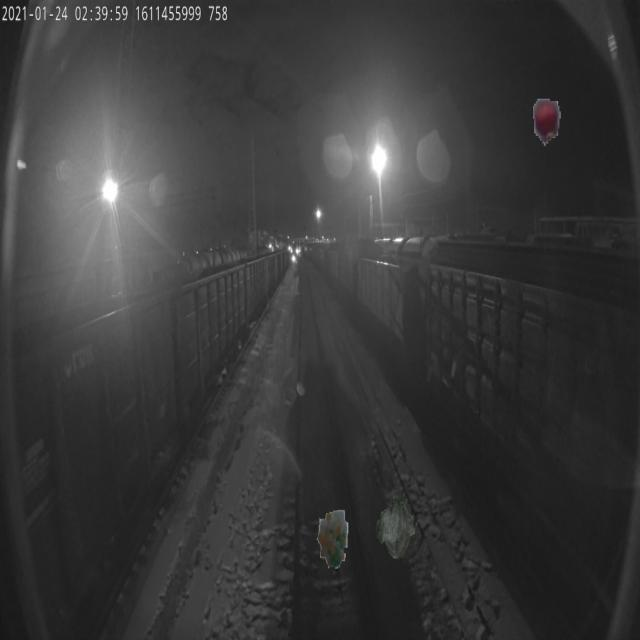balloon: (526, 94, 565, 158), (317, 505, 348, 569)
plastic bag: (375, 496, 416, 560)
